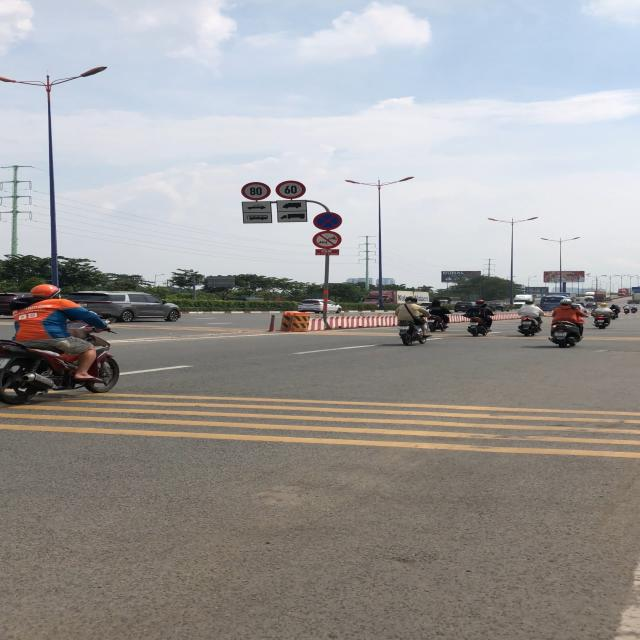Bien bao cam dung xe va do xe: (312, 212, 343, 232)
Bien bao toc do toi da cho phep: (274, 180, 308, 200), (240, 182, 271, 202)
